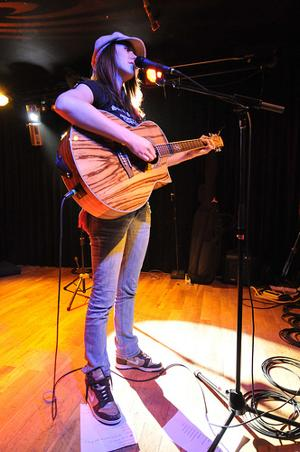person: (52, 32, 217, 427)
